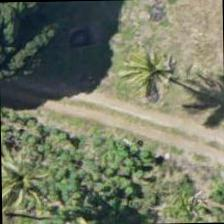Kelapa_Sawit: (100, 34, 191, 126), (0, 137, 66, 223)
